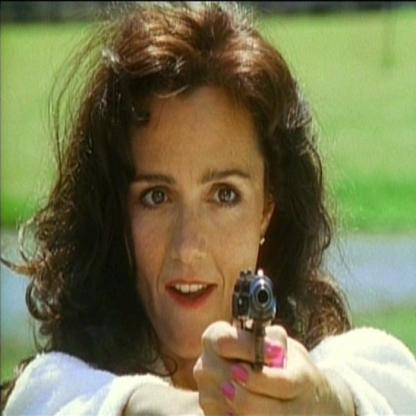gun: (228, 259, 286, 353)
